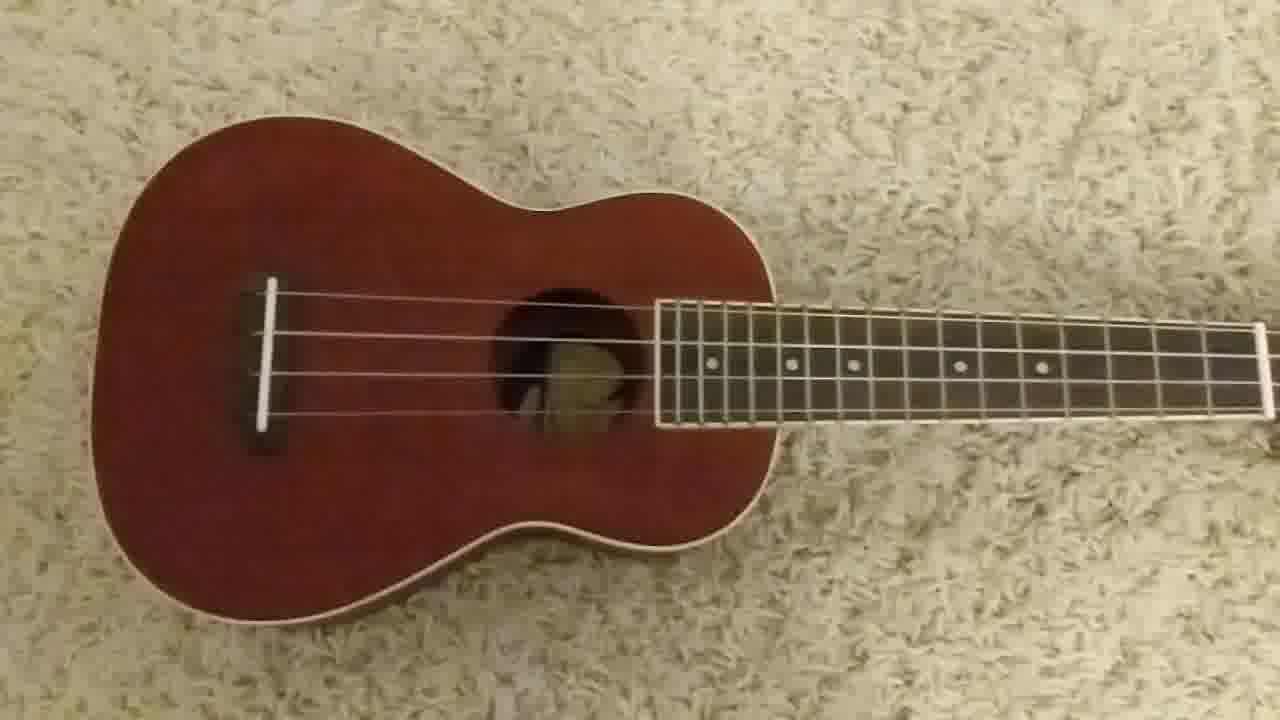Body: (85, 112, 789, 634)
Bridge: (237, 266, 297, 446)
